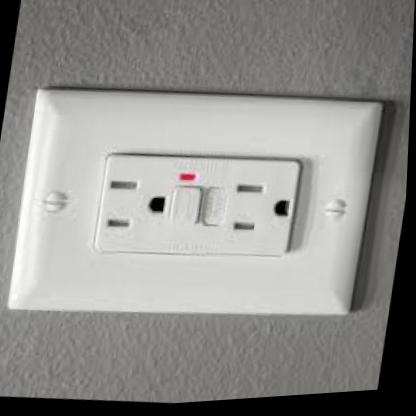OUTLET: (4, 63, 383, 338)
